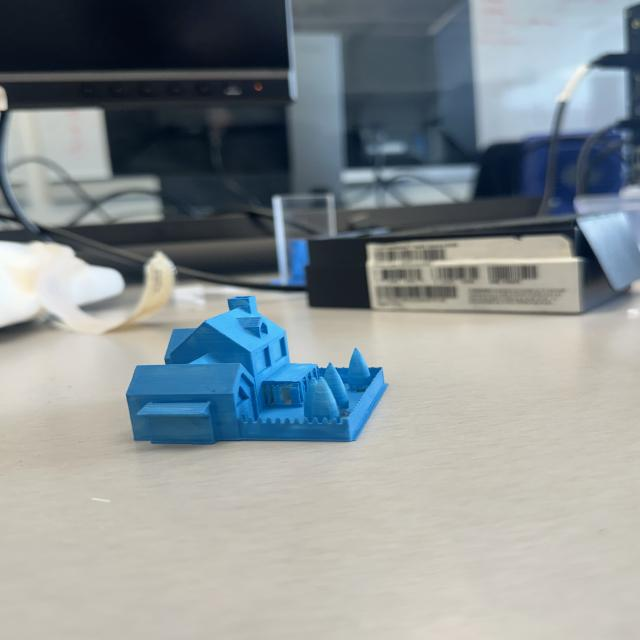house: (124, 295, 389, 447)
